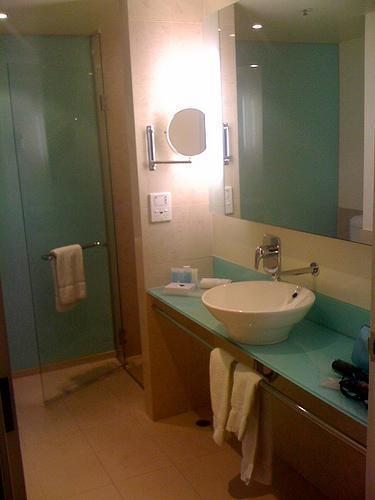Ducha: (21, 23, 223, 417)
Lavamanos: (207, 233, 325, 357)
